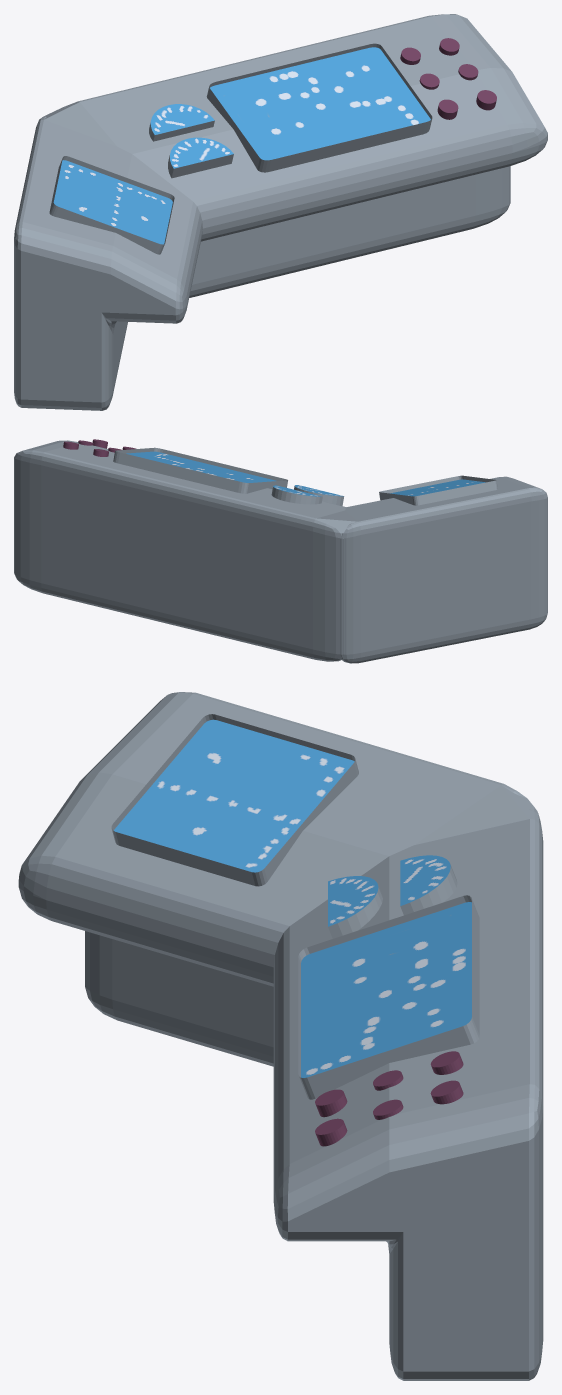
File: Navigation-panel3.glb
The picture shows the model from 3 angles, top to bottom: view 1: azimuth 30°, elevation 25°; view 2: azimuth 150°, elevation 25°; view 3: azimuth 270°, elevation 25°; orthographic projection. The views are drawn at different scales.
Parts seen in each view (by area): view 1: Cylinder.006; view 2: Cylinder.006; view 3: Cylinder.006.
Boxes of the visible parts, left/top/right/bottom form: Cylinder.006: left=14, top=14, right=547, bottom=410; Cylinder.006: left=14, top=439, right=547, bottom=663; Cylinder.006: left=18, top=692, right=543, bottom=1380.
Size of the model in its own units: 13.27 by 4.17 by 6.81.
1 material, 1 textured.
